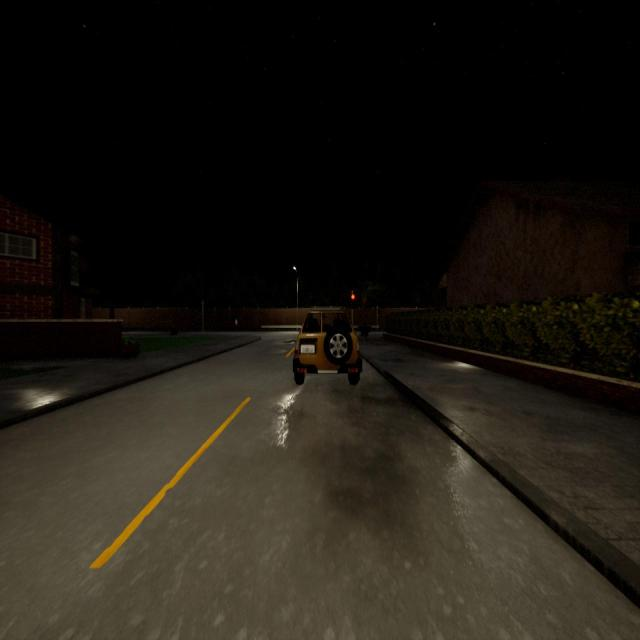Vehicle: (292, 309, 362, 384)
traffic_light: (350, 292, 355, 306)
